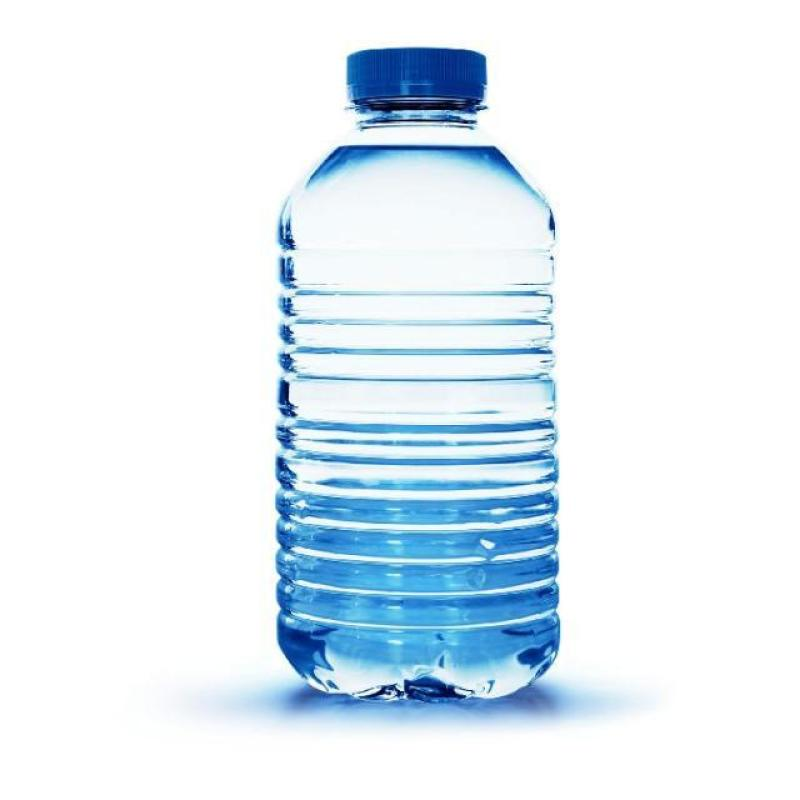botella: (274, 47, 558, 704)
